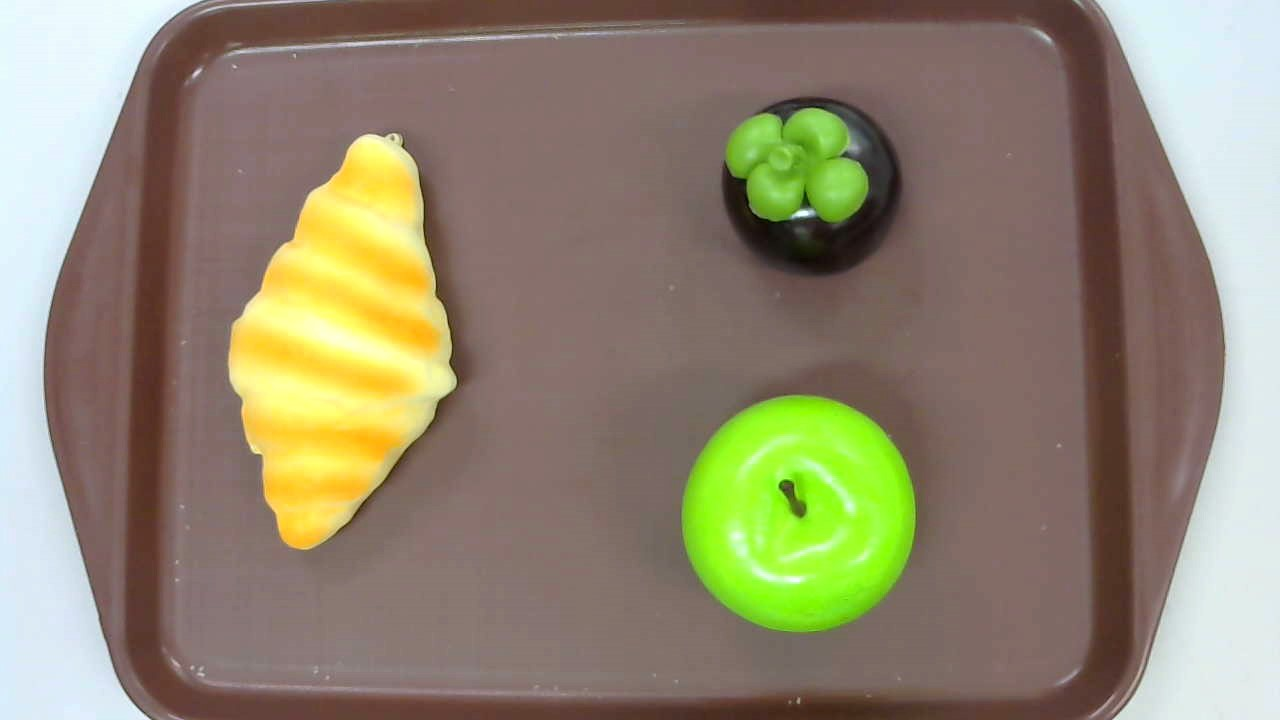croissant: (228, 132, 456, 550)
green apple: (680, 393, 916, 635)
mangosteen: (720, 97, 903, 278)
